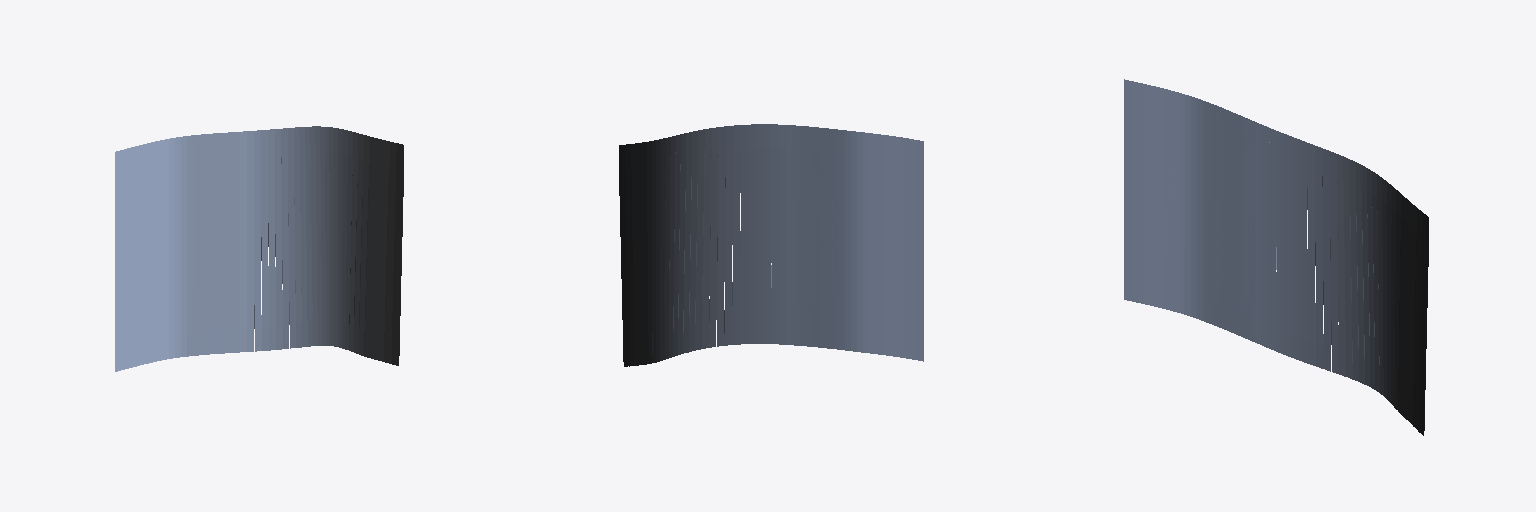
The model's file is GreyWave.obj.
The picture shows the model from 3 angles: view 1: azimuth 30°, elevation 25°; view 2: azimuth 150°, elevation 25°; view 3: azimuth 330°, elevation 25°; orthographic projection.
Size of the model in its own units: 26.36 by 24.67 by 2.24.